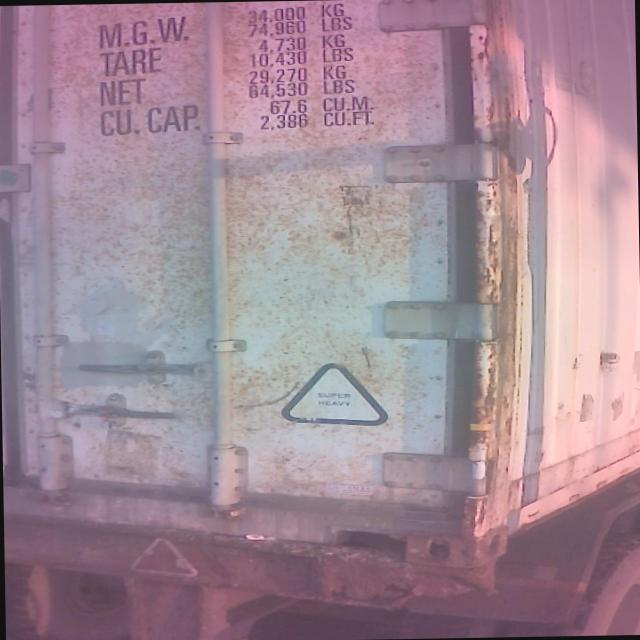seal: (92, 404, 119, 424)
